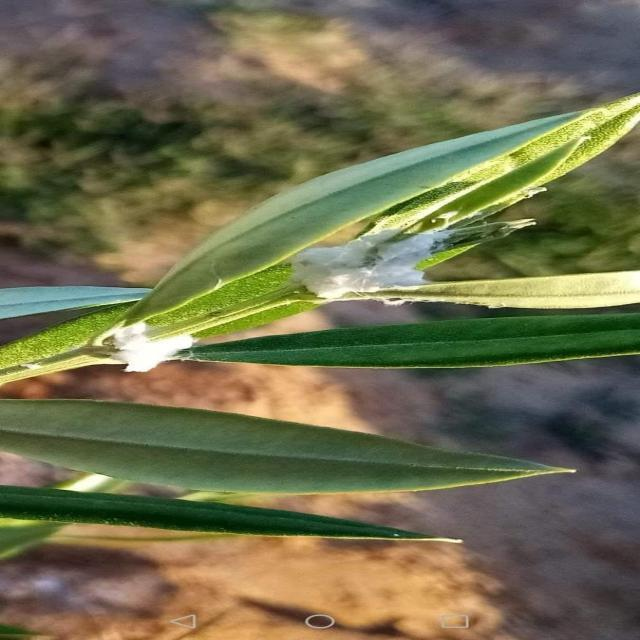Psyllid: (290, 213, 493, 305), (76, 321, 196, 372)
